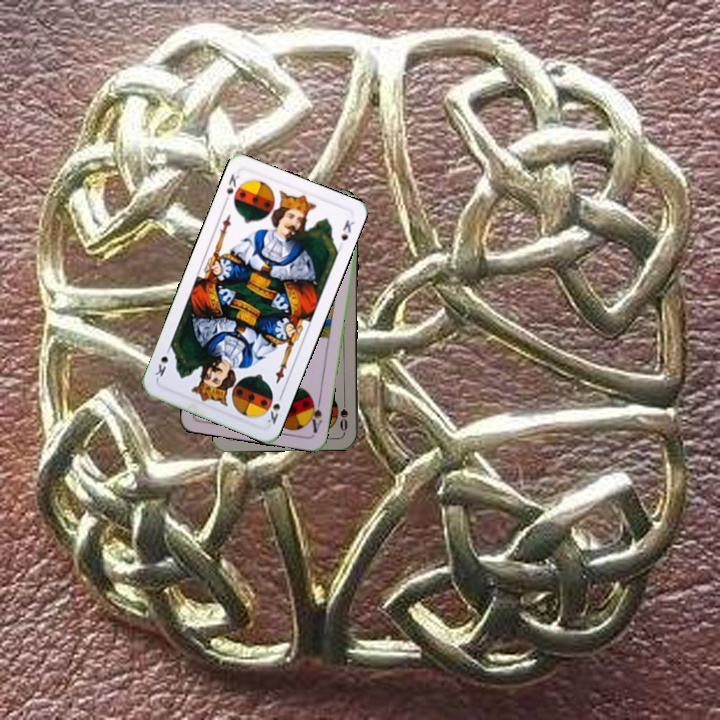SA: (305, 394, 324, 436)
SK: (220, 170, 245, 207), (263, 389, 286, 427)
SO: (336, 393, 351, 434)
